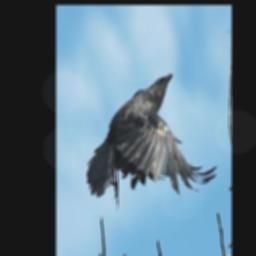Crow: (88, 70, 220, 211)
